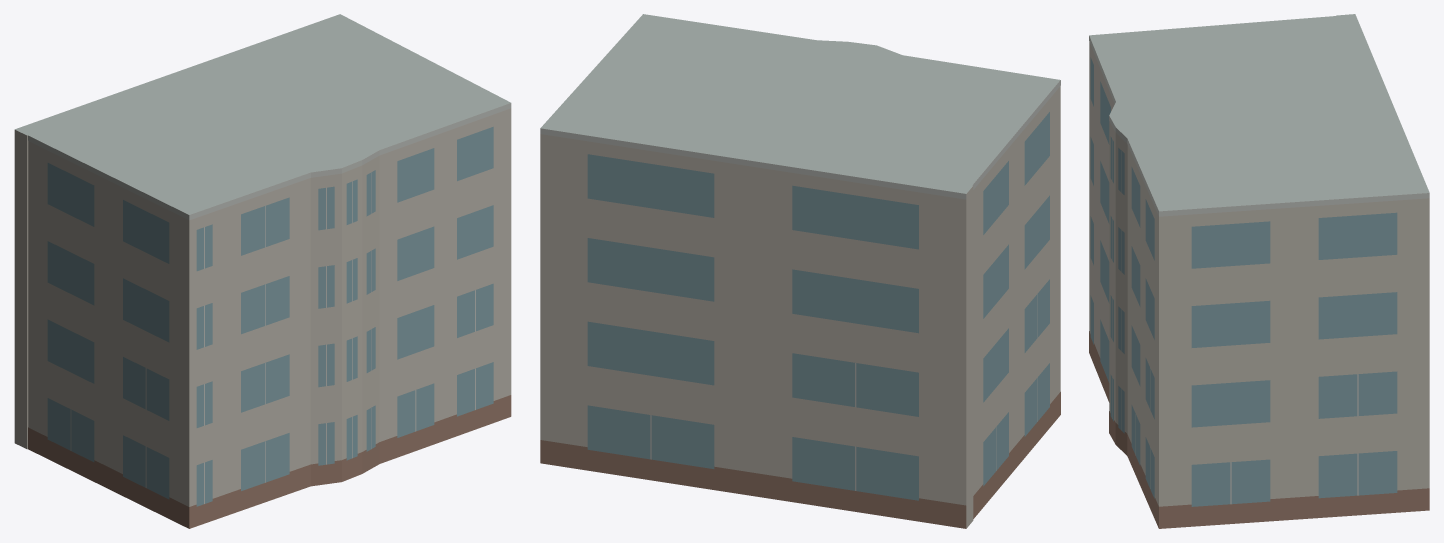
File: survey-upis-32498411.glb
3 renders of one model, left to right at view 1: azimuth 30°, elevation 25°; view 2: azimuth 150°, elevation 25°; view 3: azimuth 270°, elevation 25°, orthographic. The views are drawn at different scales.
Visible parts, largest first — view 1: survey-upis-32498411.tmp; view 2: survey-upis-32498411.tmp; view 3: survey-upis-32498411.tmp.
Part boxes in pixels (box(x1,y1,x2,y2)): survey-upis-32498411.tmp: box(14, 14, 511, 528); survey-upis-32498411.tmp: box(540, 14, 1060, 528); survey-upis-32498411.tmp: box(1089, 14, 1429, 528).
Bounding box in the file's own units: 19.21 × 14.4 × 14.01.
